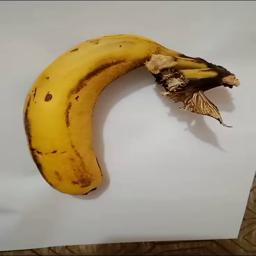Banana Semifresh: (20, 31, 241, 196)
